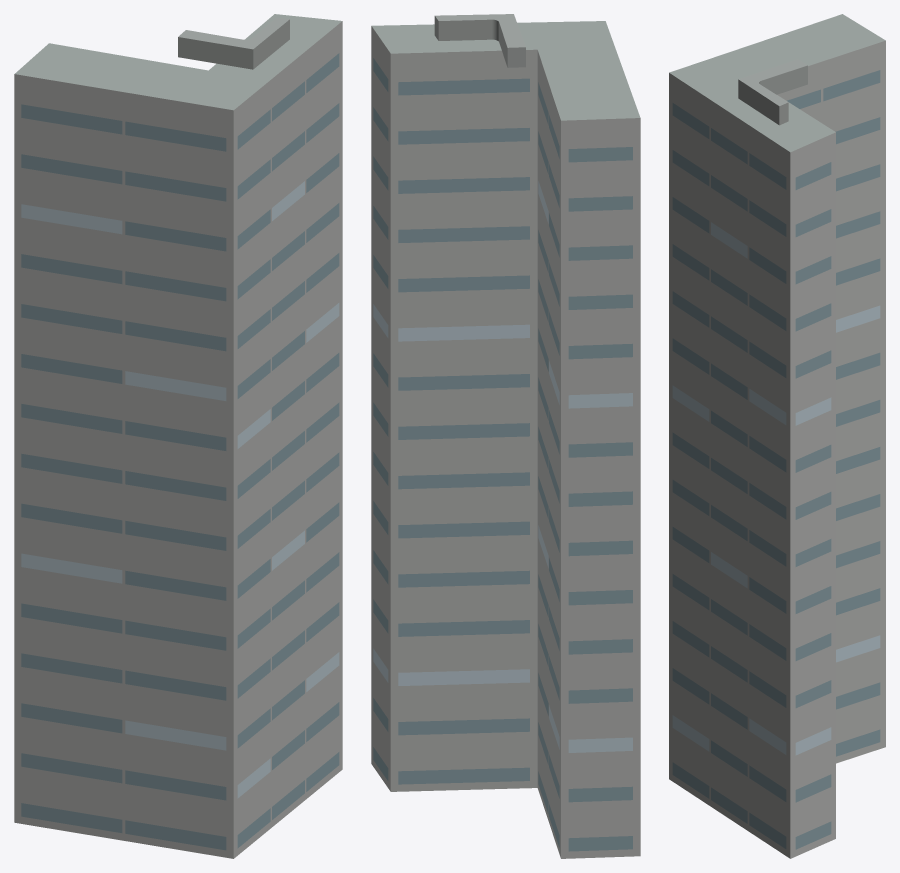
File: fallback-jamsil-ricenz-243.glb
3 renders of one model, left to right at view 1: azimuth 30°, elevation 25°; view 2: azimuth 150°, elevation 25°; view 3: azimuth 270°, elevation 25°, orthographic. The views are drawn at different scales.
Parts seen in each view (by area): view 1: fallback-jamsil-ricenz-243; view 2: fallback-jamsil-ricenz-243; view 3: fallback-jamsil-ricenz-243.
Boxes of the visible parts, x1,y1,x2,y2 form: fallback-jamsil-ricenz-243: (14,14,342,858); fallback-jamsil-ricenz-243: (371,14,640,858); fallback-jamsil-ricenz-243: (669,14,885,858).
Size of the model in its own units: 37.22 by 91 by 24.66.
